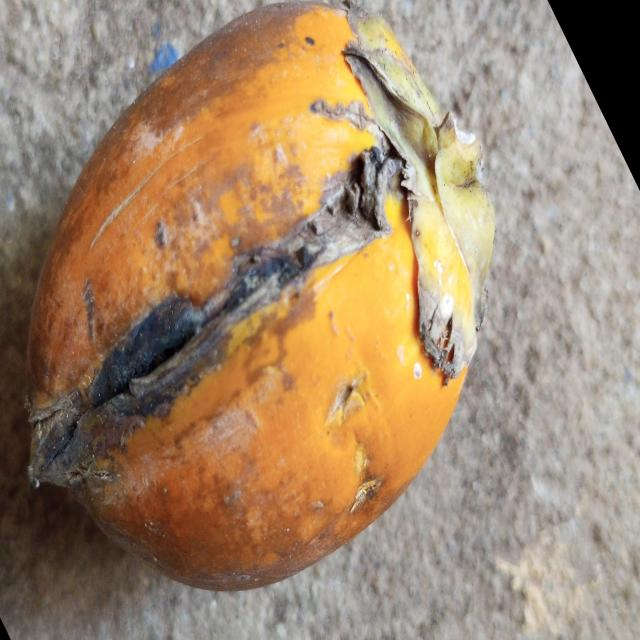damaged: (25, 4, 498, 596)
